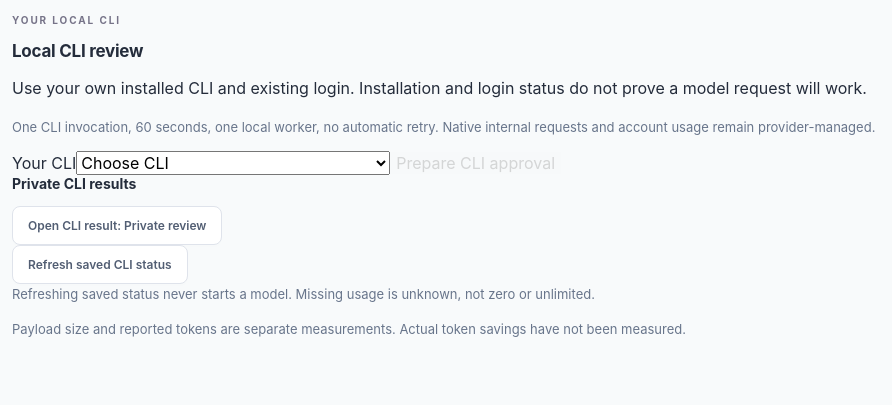
Test: opens only CLI result artifacts as escaped private text
Click the button "Open CLI result: Private review" at (117, 226), box [12,206,222,245]
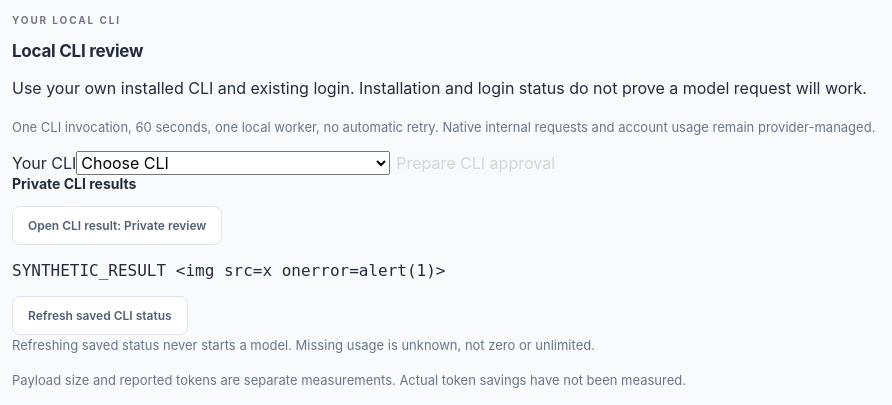
Check: the text named "CLI result text" shows "SYNTHETIC_RESULT", box [12,261,446,280]
